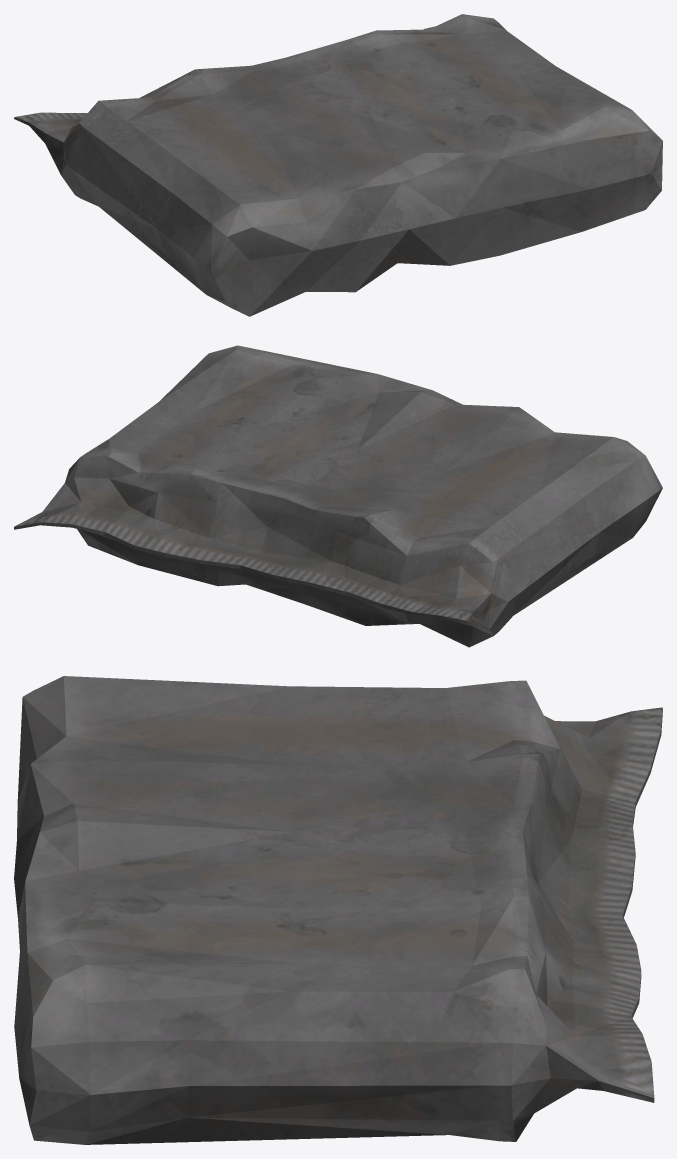
The picture shows the model from 3 angles, top to bottom: view 1: azimuth 30°, elevation 25°; view 2: azimuth 150°, elevation 25°; view 3: azimuth 270°, elevation 25°; orthographic projection. The views are drawn at different scales.
Visible parts, largest first — view 1: TW_657024b8bfc87b3a34093232_PZ_Import; view 2: TW_657024b8bfc87b3a34093232_PZ_Import; view 3: TW_657024b8bfc87b3a34093232_PZ_Import.
Boxes of the visible parts, bbox=[...] form: TW_657024b8bfc87b3a34093232_PZ_Import: bbox=[14, 14, 662, 316]; TW_657024b8bfc87b3a34093232_PZ_Import: bbox=[14, 345, 662, 647]; TW_657024b8bfc87b3a34093232_PZ_Import: bbox=[14, 676, 662, 1144].
Size of the model in its own units: 0.0731 by 0.0555 by 0.017.
1 material, 1 textured.
